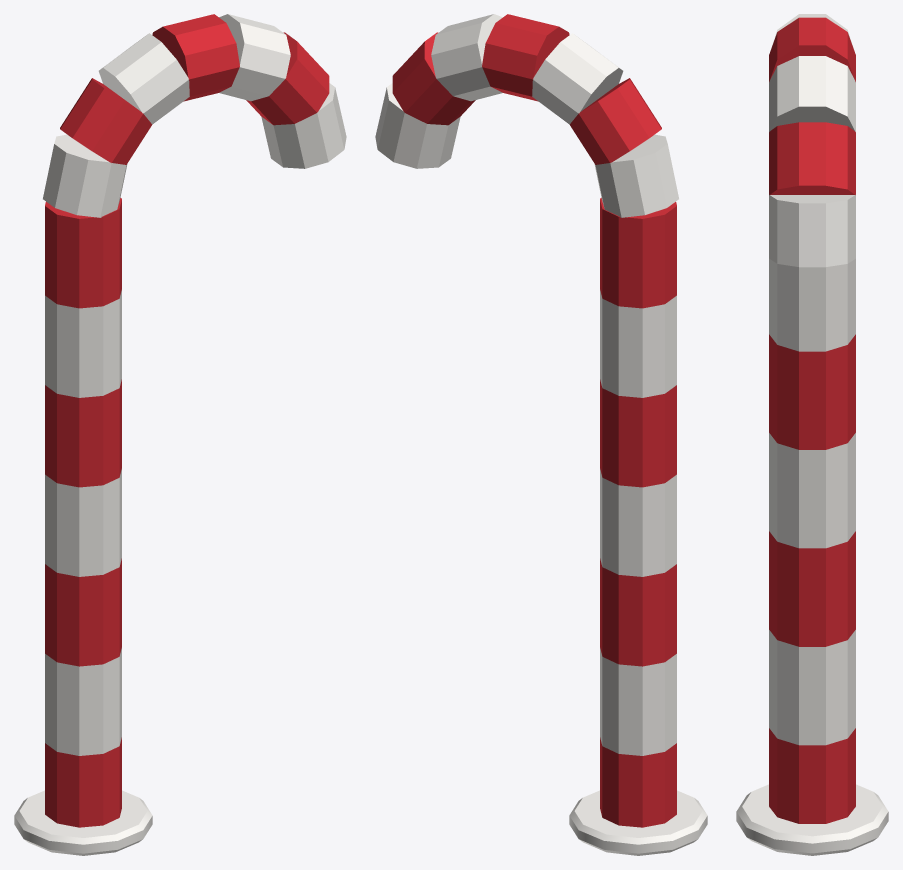
Rendered from vuena-prop-candy-cane.glb.
3 renders of one model, left to right at view 1: azimuth 30°, elevation 25°; view 2: azimuth 150°, elevation 25°; view 3: azimuth 270°, elevation 25°, orthographic. The views are drawn at different scales.
Visible parts, largest first — view 1: candy_cane; view 2: candy_cane; view 3: candy_cane.
Boxes of the visible parts, left/top/right/bottom form: candy_cane: left=14, top=14, right=346, bottom=855; candy_cane: left=375, top=14, right=707, bottom=855; candy_cane: left=736, top=14, right=888, bottom=855.
Bounding box in the file's own units: 0.741 × 1.74 × 0.28.
1 material, 1 textured.
